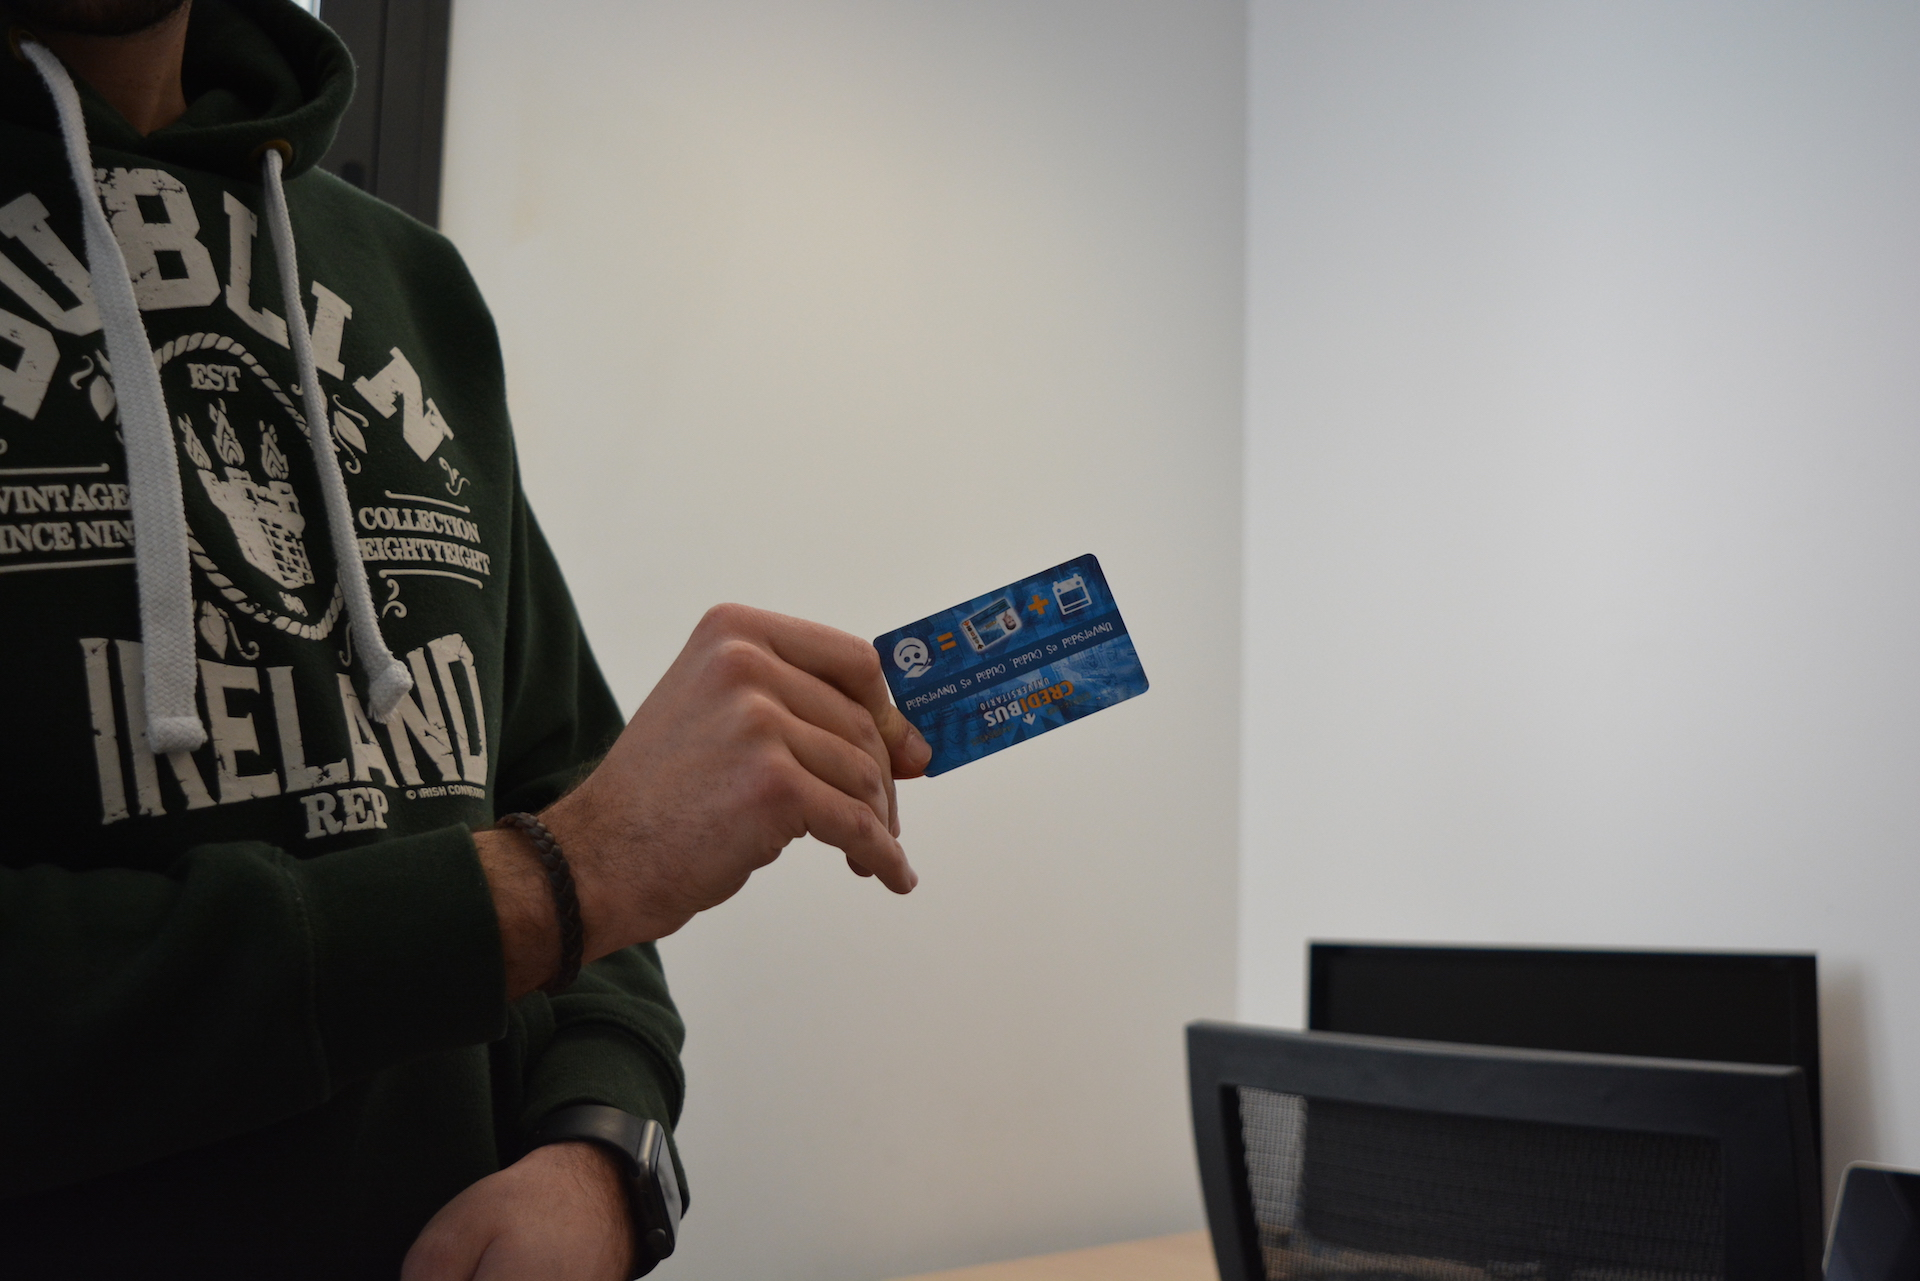tarjeta: (871, 552, 1151, 781)
